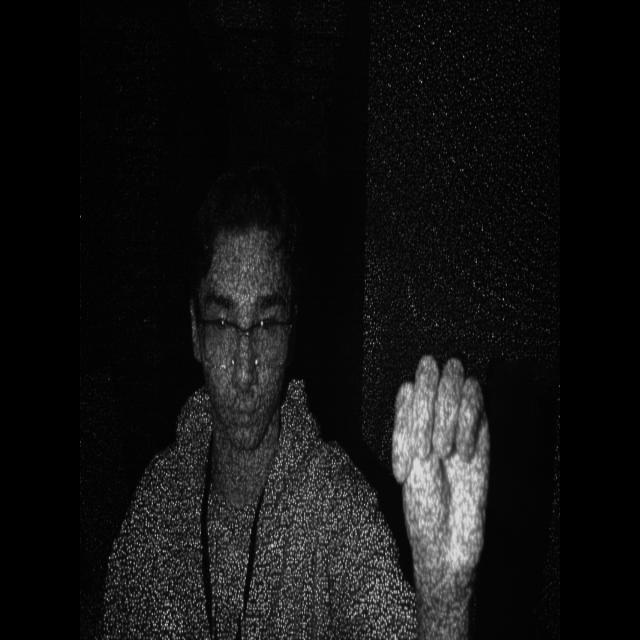E: (386, 350, 496, 600)
